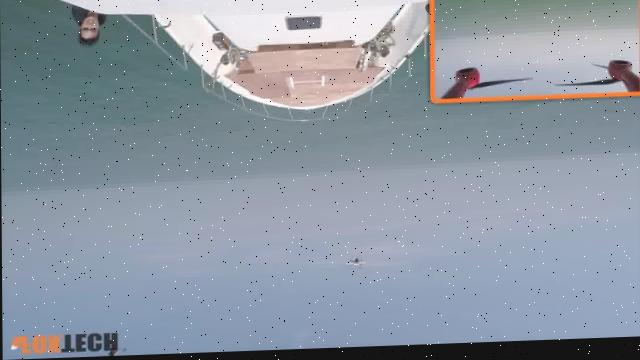drone: (338, 255, 370, 280)
